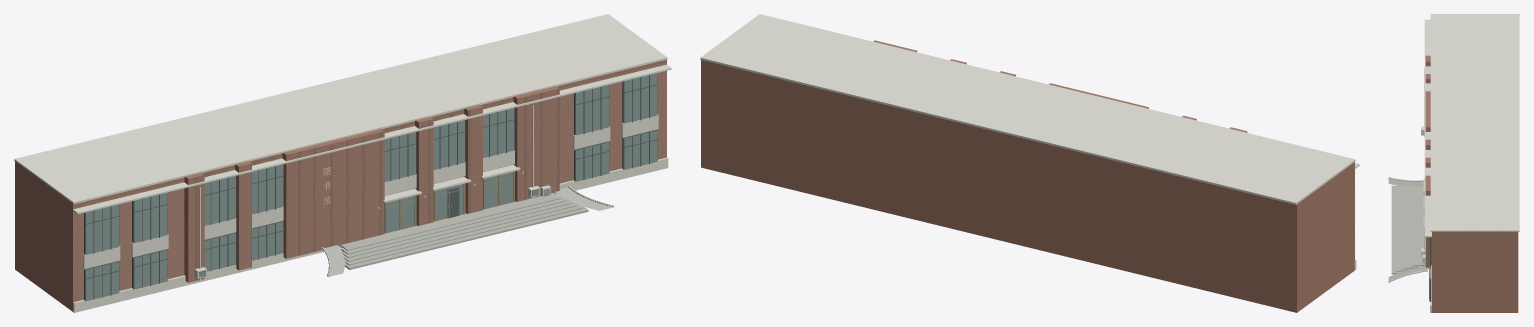
The model's file is buildings-56-medium.glb.
3 views of the same model, side by side, from view 1: azimuth 30°, elevation 25°; view 2: azimuth 150°, elevation 25°; view 3: azimuth 270°, elevation 25° (orthographic). The views are drawn at different scales.
Visible parts, largest first — view 1: 理科图书馆 · Library ivory panels.001, 理科图书馆 · Library muted red brick.001, 理科图书馆 · Library green grey glazing.001, 理科图书馆 · Library mortar.001, 理科图书馆 · Library entry steps.001, 理科图书馆 · Library dark steel.001, 理科图书馆 · Library bronze doors.001; view 2: 理科图书馆 · Library muted red brick.001, 理科图书馆 · Library ivory panels.001; view 3: 理科图书馆 · Library ivory panels.001, 理科图书馆 · Library muted red brick.001, 理科图书馆 · Library entry steps.001, 理科图书馆 · Library dark steel.001, 理科图书馆 · Library mortar.001.
Part boxes in pixels (box(x1,y1,x2,y2)): 理科图书馆 · Library ivory panels.001: box(14, 14, 671, 312); 理科图书馆 · Library muted red brick.001: box(15, 59, 666, 311); 理科图书馆 · Library green grey glazing.001: box(85, 73, 657, 300); 理科图书馆 · Library mortar.001: box(73, 62, 666, 301); 理科图书馆 · Library entry steps.001: box(199, 187, 612, 277); 理科图书馆 · Library dark steel.001: box(84, 73, 658, 301); 理科图书馆 · Library bronze doors.001: box(384, 171, 514, 233); 理科图书馆 · Library muted red brick.001: box(701, 40, 1354, 312); 理科图书馆 · Library ivory panels.001: box(700, 14, 1359, 270); 理科图书馆 · Library ivory panels.001: box(1388, 14, 1519, 312); 理科图书馆 · Library muted red brick.001: box(1426, 55, 1518, 312); 理科图书馆 · Library entry steps.001: box(1388, 128, 1427, 280); 理科图书馆 · Library dark steel.001: box(1429, 237, 1431, 301); 理科图书馆 · Library mortar.001: box(1425, 56, 1425, 267).
Size of the model in its own units: 64 by 11.34 by 16.37.
